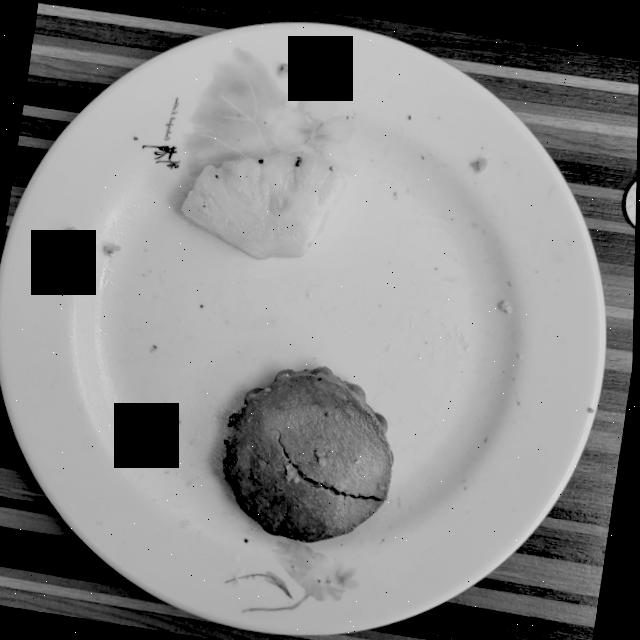Spam: (223, 363, 394, 540)
coin: (624, 174, 637, 222)
pineapple: (182, 148, 346, 257)
